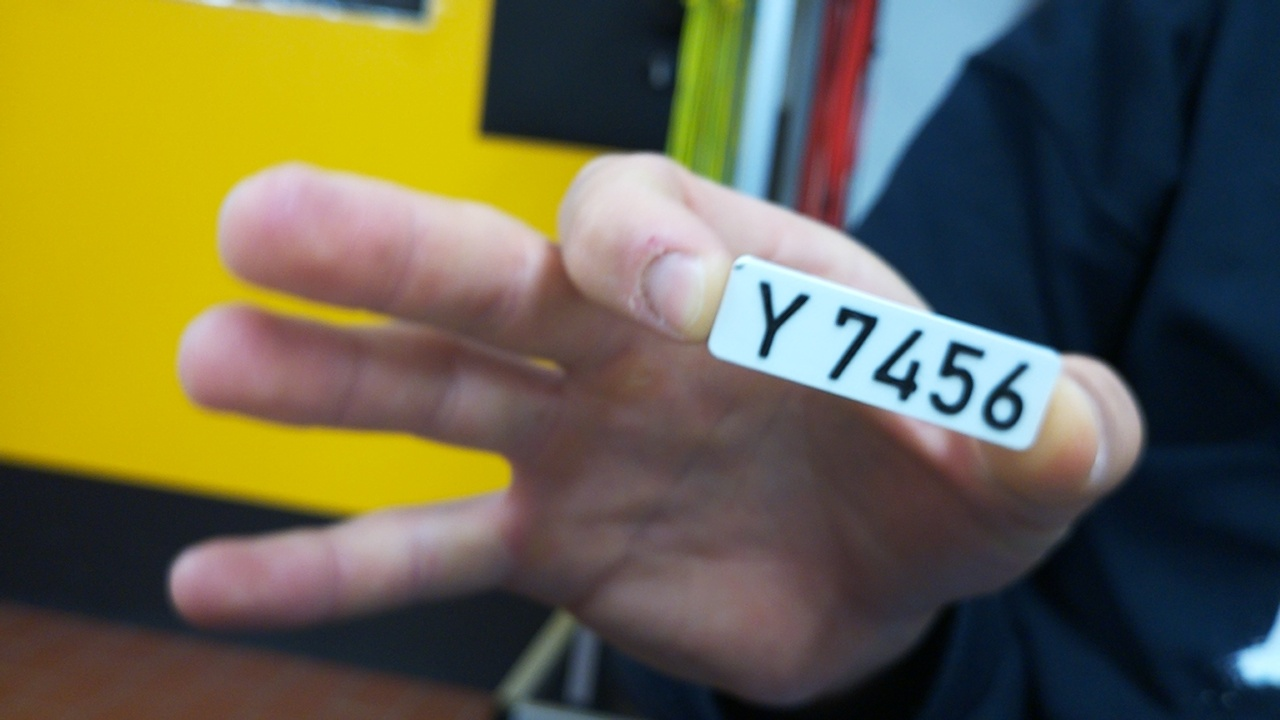license_plate: (704, 251, 1065, 456)
